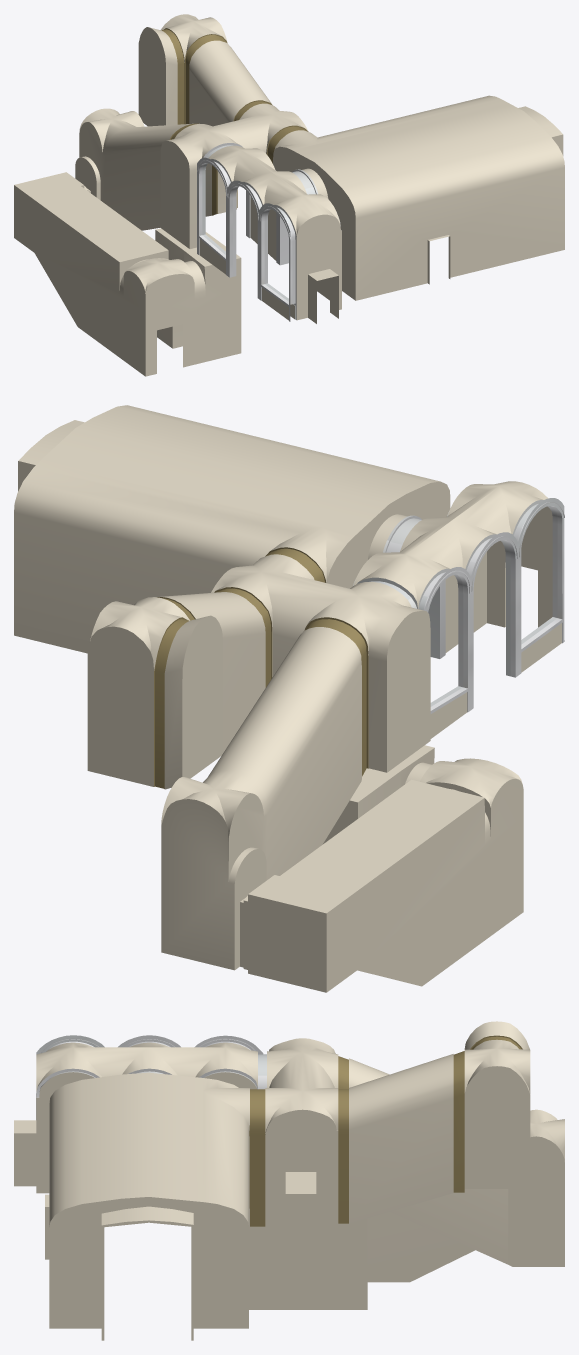
The model's file is StrutturaIngresso.fbx.
3 renders of one model, top to bottom at view 1: azimuth 30°, elevation 25°; view 2: azimuth 150°, elevation 25°; view 3: azimuth 270°, elevation 25°, orthographic. The views are drawn at different scales.
Parts seen in each view (by area): view 1: StrutturaIngressoAtrio, StrutturaIngressoPianoInferiore, StrutturaIngressoScaleSopra, StrutturaIngressoScaleSotto; view 2: StrutturaIngressoAtrio, StrutturaIngressoPianoInferiore, StrutturaIngressoScaleSotto, StrutturaIngressoScaleSopra; view 3: StrutturaIngressoAtrio, StrutturaIngressoScaleSopra, StrutturaIngressoPianoInferiore, StrutturaIngressoScaleSotto.
Part boxes in pixels (<box>): StrutturaIngressoAtrio: <box>160,95,564,323</box>; StrutturaIngressoPianoInferiore: <box>14,172,241,376</box>; StrutturaIngressoScaleSopra: <box>138,14,272,126</box>; StrutturaIngressoScaleSotto: <box>75,108,211,230</box>; StrutturaIngressoAtrio: <box>14,405,564,776</box>; StrutturaIngressoPianoInferiore: <box>243,745,523,992</box>; StrutturaIngressoScaleSotto: <box>161,627,361,970</box>; StrutturaIngressoScaleSopra: <box>87,592,265,789</box>; StrutturaIngressoAtrio: <box>14,1035,348,1340</box>; StrutturaIngressoScaleSopra: <box>349,1021,530,1223</box>; StrutturaIngressoPianoInferiore: <box>249,1174,475,1309</box>; StrutturaIngressoScaleSotto: <box>349,1058,564,1266</box>.
Bounding box in the file's own units: 1802 × 1175 × 1973.
